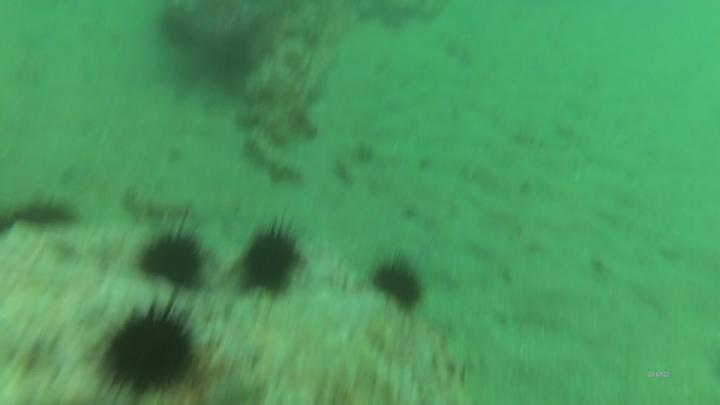echinus: (86, 287, 204, 405), (230, 211, 313, 301), (137, 200, 214, 292), (368, 249, 432, 317)
holothurian: (241, 126, 304, 187)
